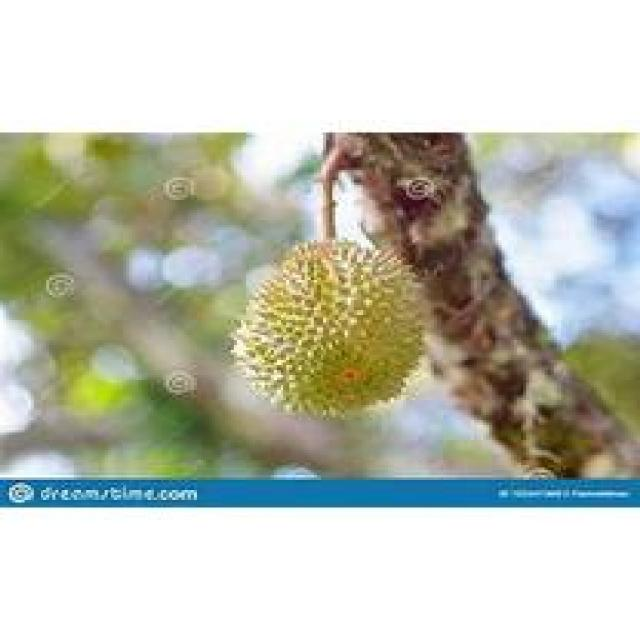fruit: (216, 220, 447, 438)
